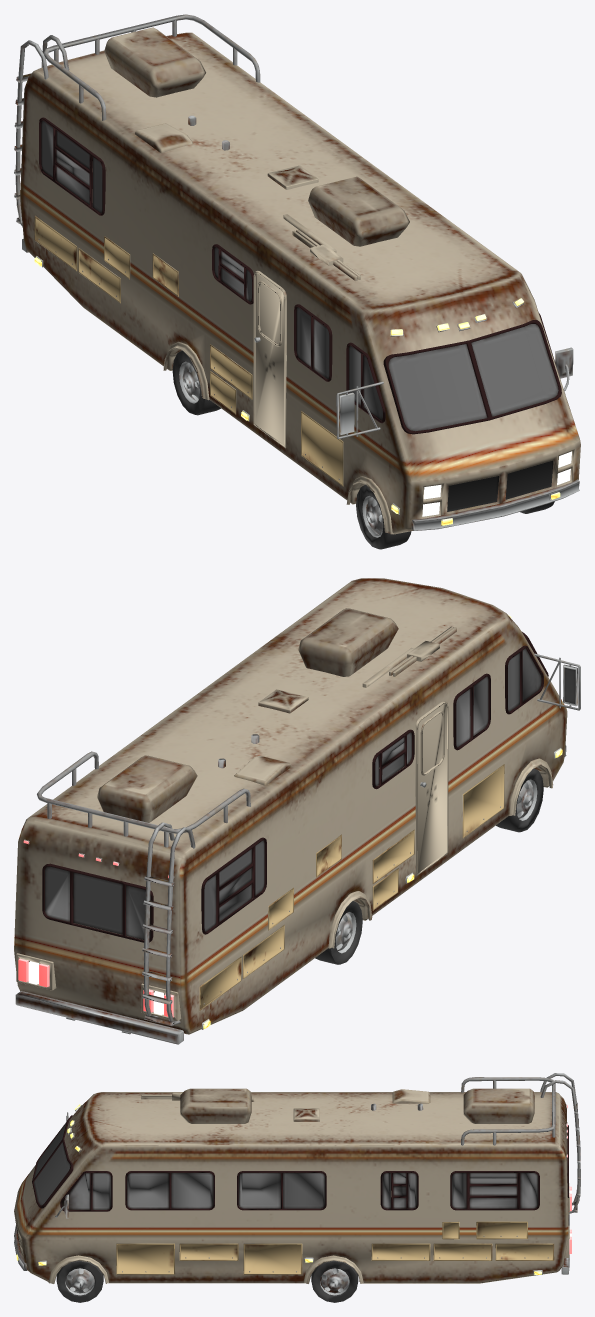
File: breaking_rv.glb
3 views of the same model, one above another, from view 1: azimuth 30°, elevation 25°; view 2: azimuth 150°, elevation 25°; view 3: azimuth 270°, elevation 25° (orthographic). The views are drawn at different scales.
Parts seen in each view (by area): view 1: Cube.000; view 2: Cube.000; view 3: Cube.000.
Boxes of the visible parts, x1=… form: Cube.000: x1=14, y1=14, x2=580, y2=549; Cube.000: x1=14, y1=578, x2=580, y2=1044; Cube.000: x1=14, y1=1073, x2=580, y2=1302.
Bounding box in the file's own units: 216 × 226 × 649.
Materials: 9 (4 with a texture image).
